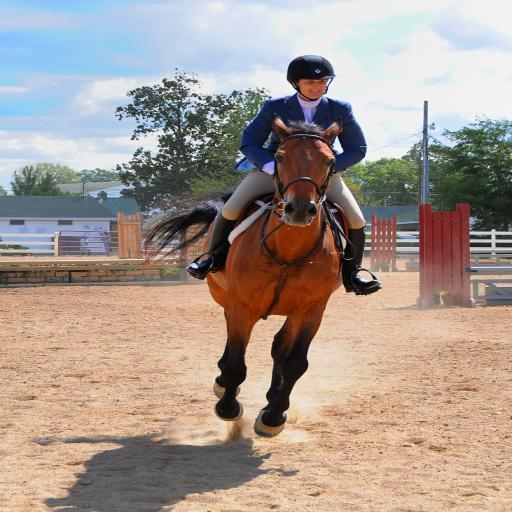horse: (138, 110, 344, 436)
